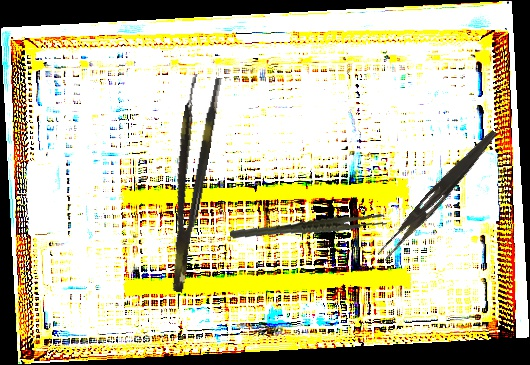Dressing Forceps: (376, 123, 500, 266)
Tissue Forceps: (153, 72, 223, 294), (229, 200, 388, 253)
